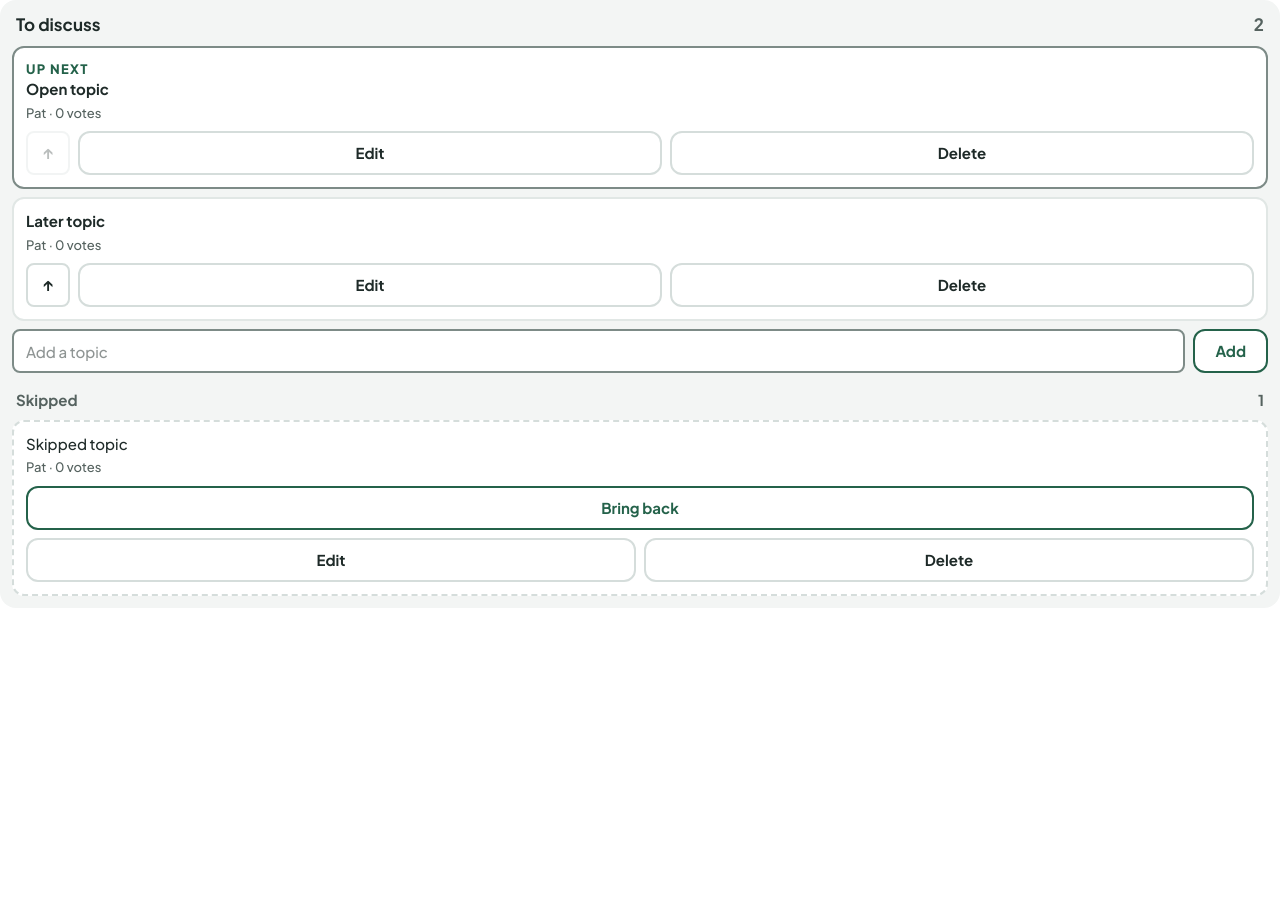
Test: QueueColumn › asks before deleting, then deletes and moves focus to the heading
Click the button named "Delete \"Later topic\"": (962, 285) x1=670 y1=263 x2=1254 y2=307
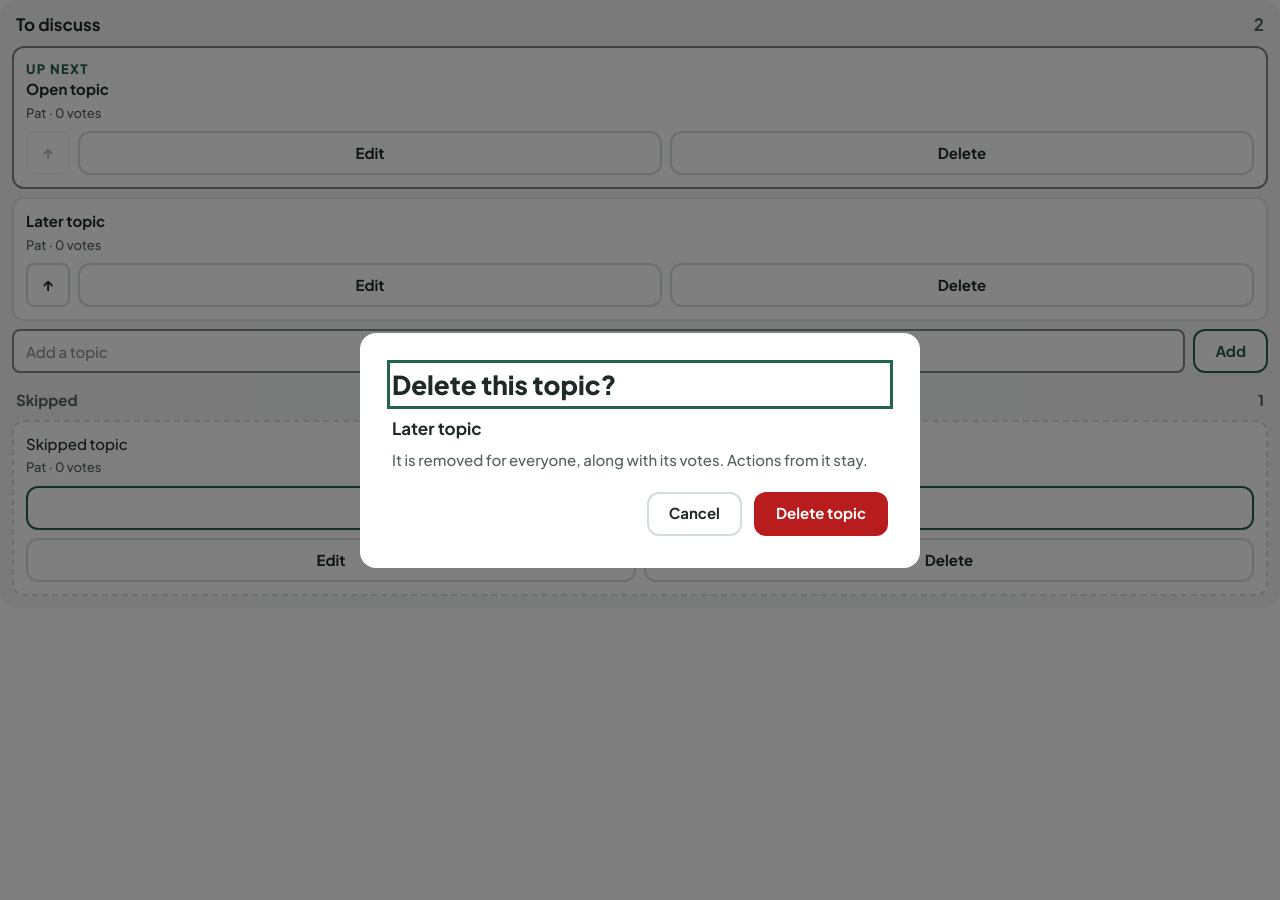
Now the dialog "Delete this topic?" shows "Later topic", box x1=392 y1=416 x2=482 y2=438
Click the button "Cancel": (694, 514) x1=647 y1=492 x2=742 y2=536
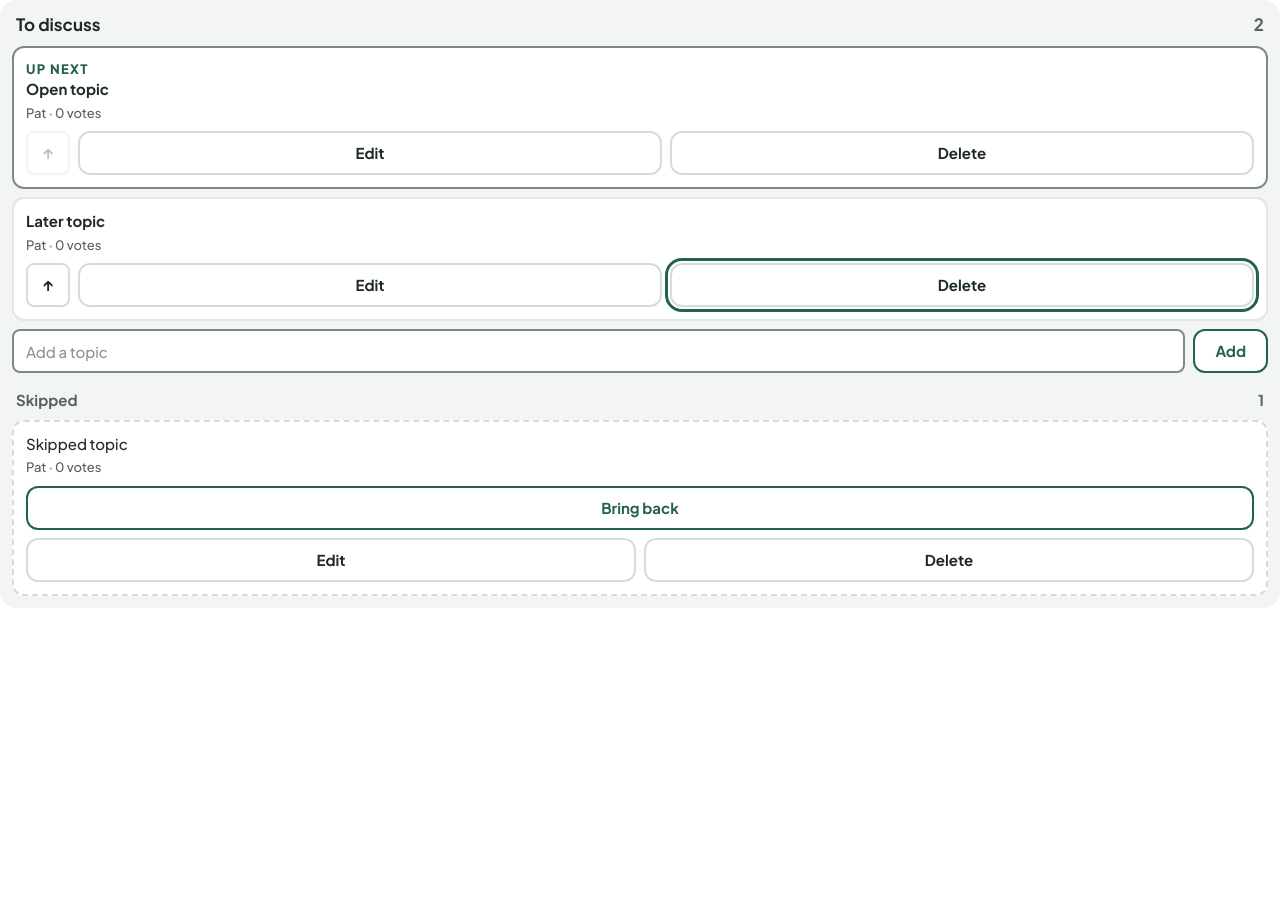
Click the button named "Delete \"Later topic\"": (962, 285) x1=670 y1=263 x2=1254 y2=307
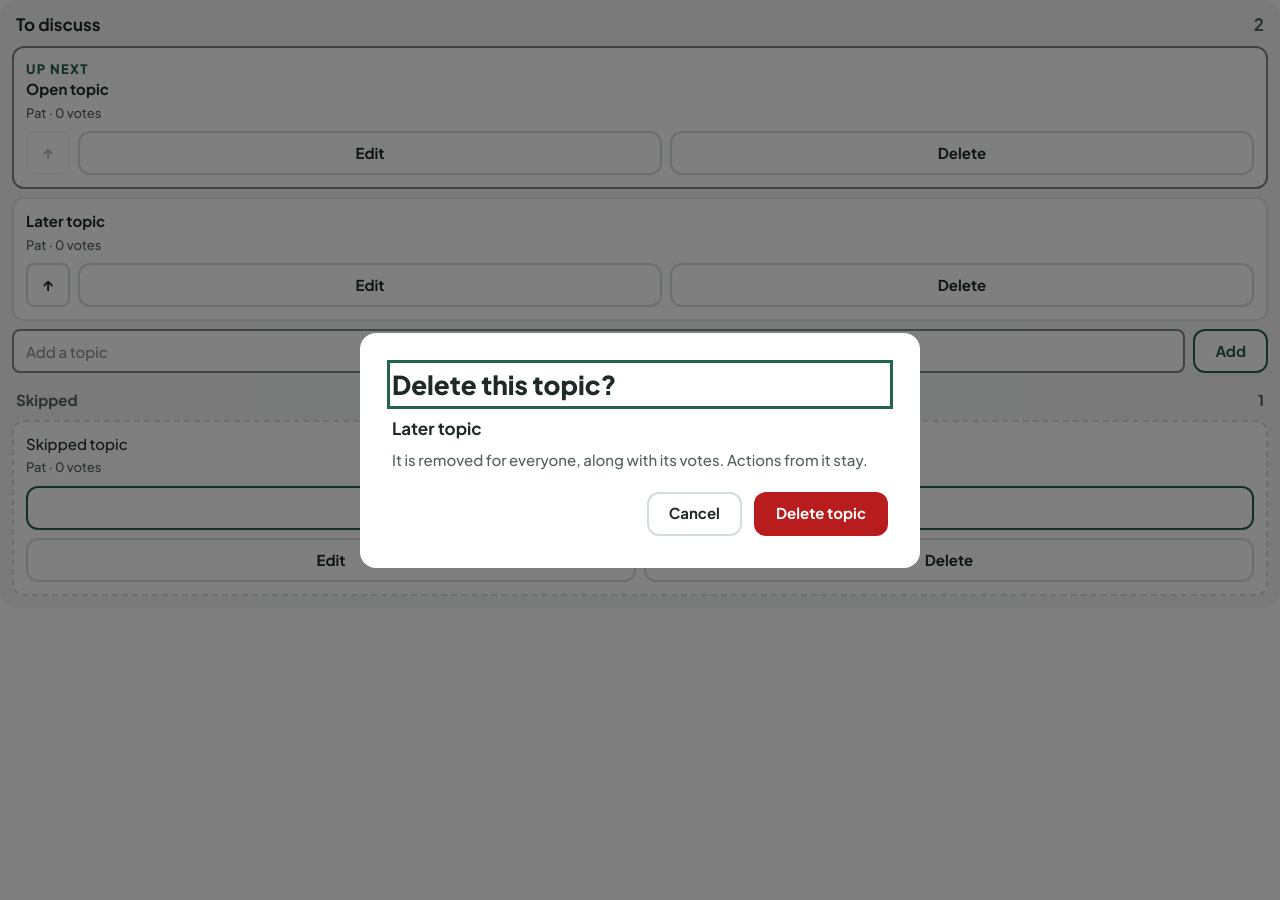
Click the button "Delete topic": (821, 514) x1=754 y1=492 x2=888 y2=536
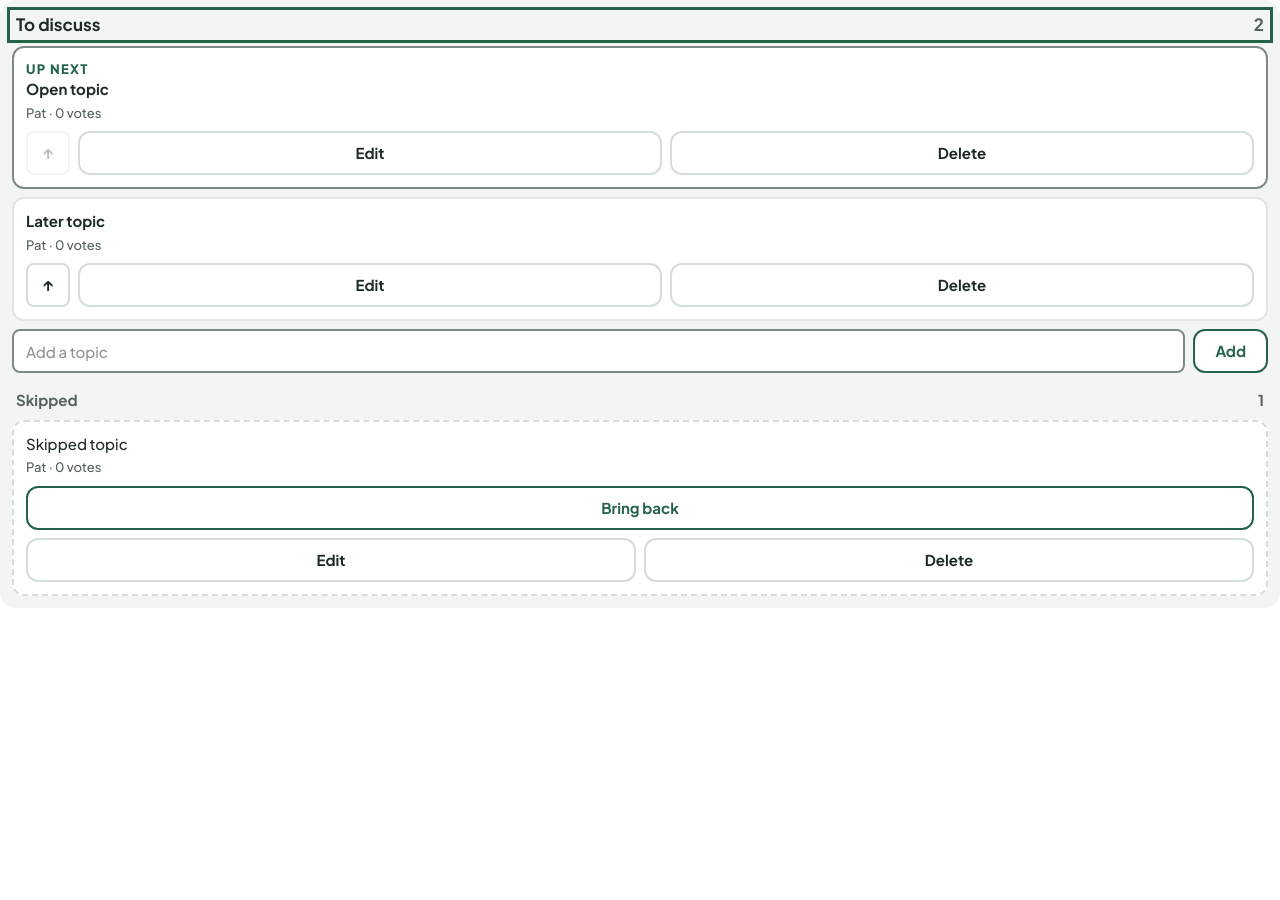
Now the dialog is gone
